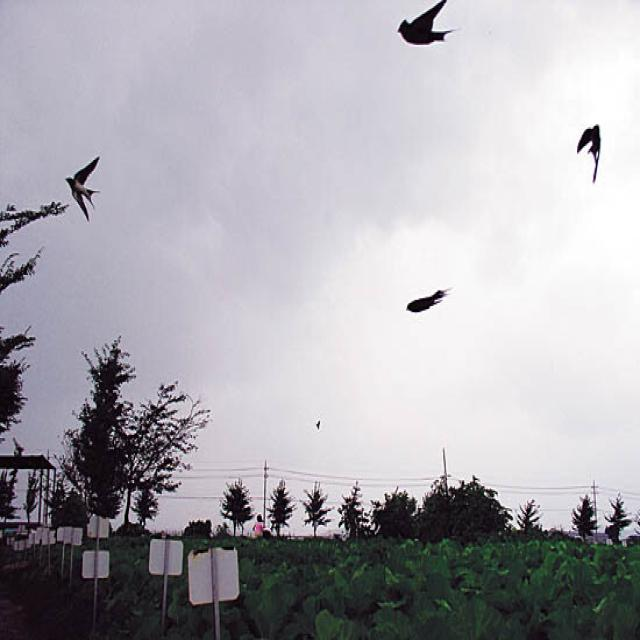bird: (393, 0, 462, 49), (66, 152, 106, 226), (573, 124, 610, 182), (400, 286, 452, 319)
